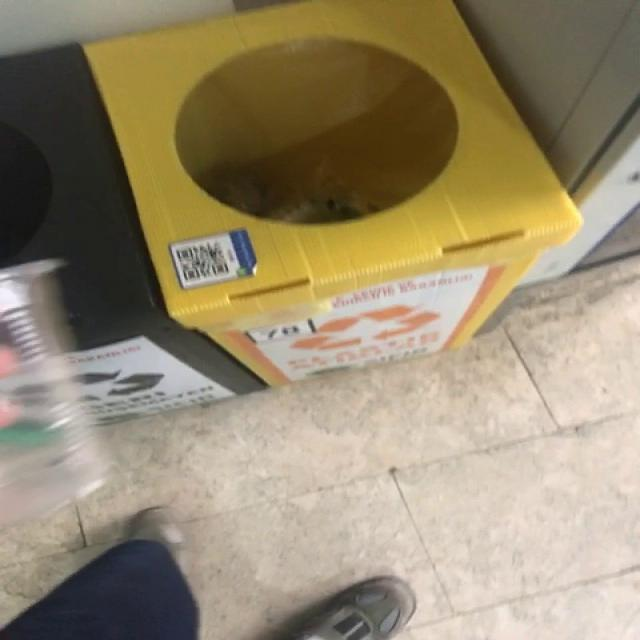plastic: (0, 259, 108, 524)
